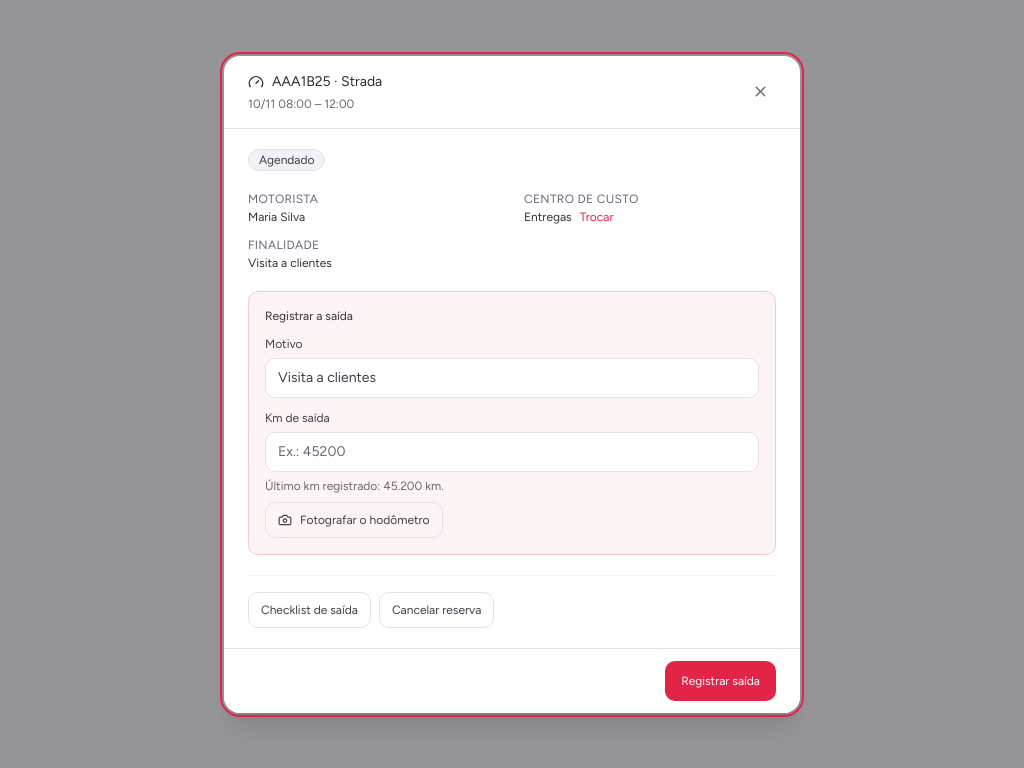
UsoDetalheModal: descartar o que foi digitado › com o km digitado, botão Fechar pede confirmação antes de fechar
This screenshot has width=1024, height=768.
Type "45300" into the field labelled "Km de saída".
click(512, 452); type("45300")  # box [265, 432, 759, 472]
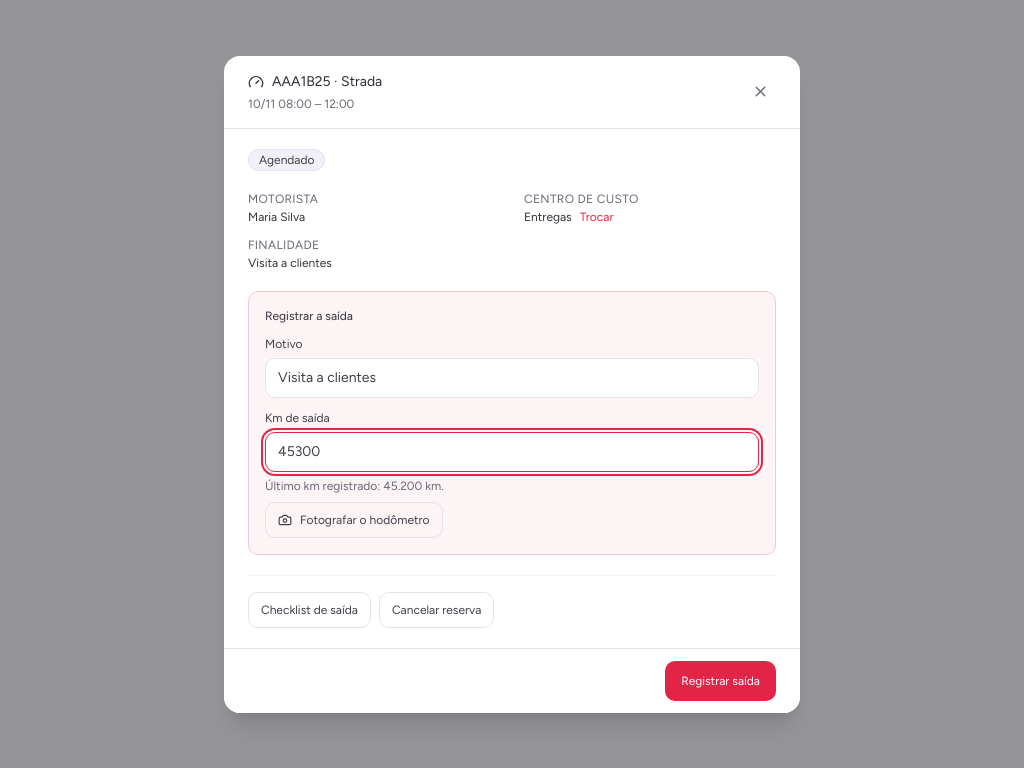
Click the button named "Fechar".
click(760, 92)  # box [744, 76, 776, 108]
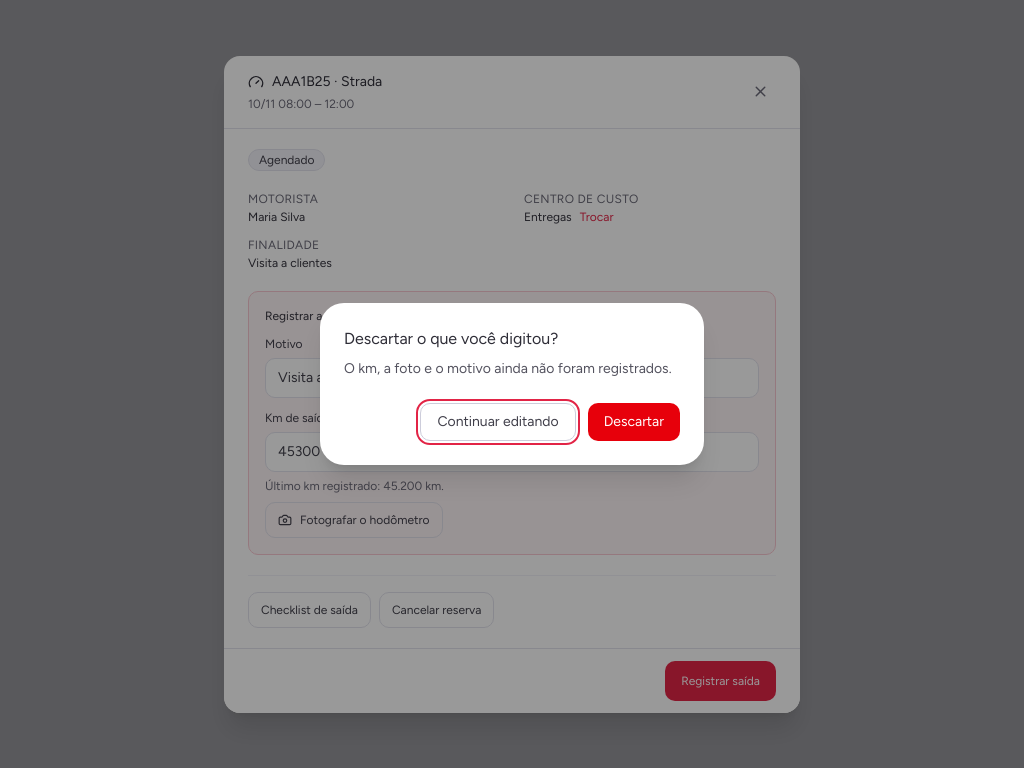
Now the dialog "Descartar o que você digitou?" is shown, box [320, 303, 704, 465]
Now the button "Continuar editando" is shown, box [420, 403, 576, 441]
Now the button "Descartar" is shown, box [588, 403, 680, 441]
